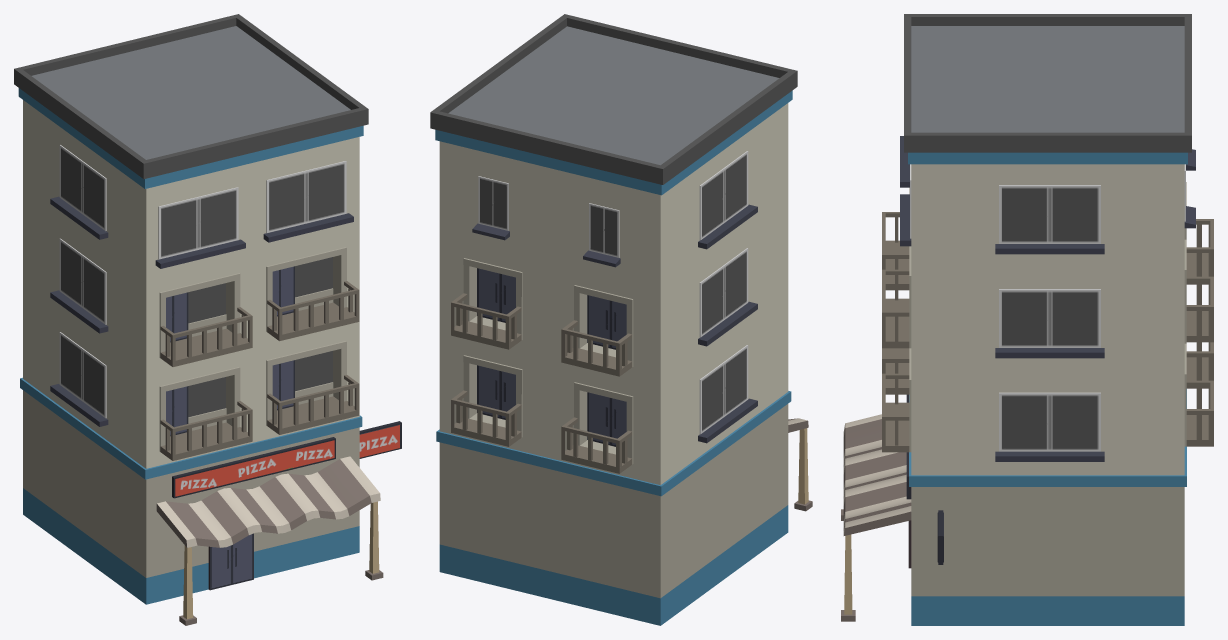
Rendered from pizza01_color02.fbx.
3 renders of one model, left to right at view 1: azimuth 30°, elevation 25°; view 2: azimuth 150°, elevation 25°; view 3: azimuth 270°, elevation 25°, orthographic. The views are drawn at different scales.
Parts seen in each view (by area): view 1: pizza01_color02; view 2: pizza01_color02; view 3: pizza01_color02.
Boxes of the visible parts, x1=… form: pizza01_color02: x1=14, y1=14, x2=401, y2=625; pizza01_color02: x1=430, y1=14, x2=812, y2=625; pizza01_color02: x1=841, y1=14, x2=1213, y2=625.
Size of the model in its own units: 1167 by 1792 by 1227.
